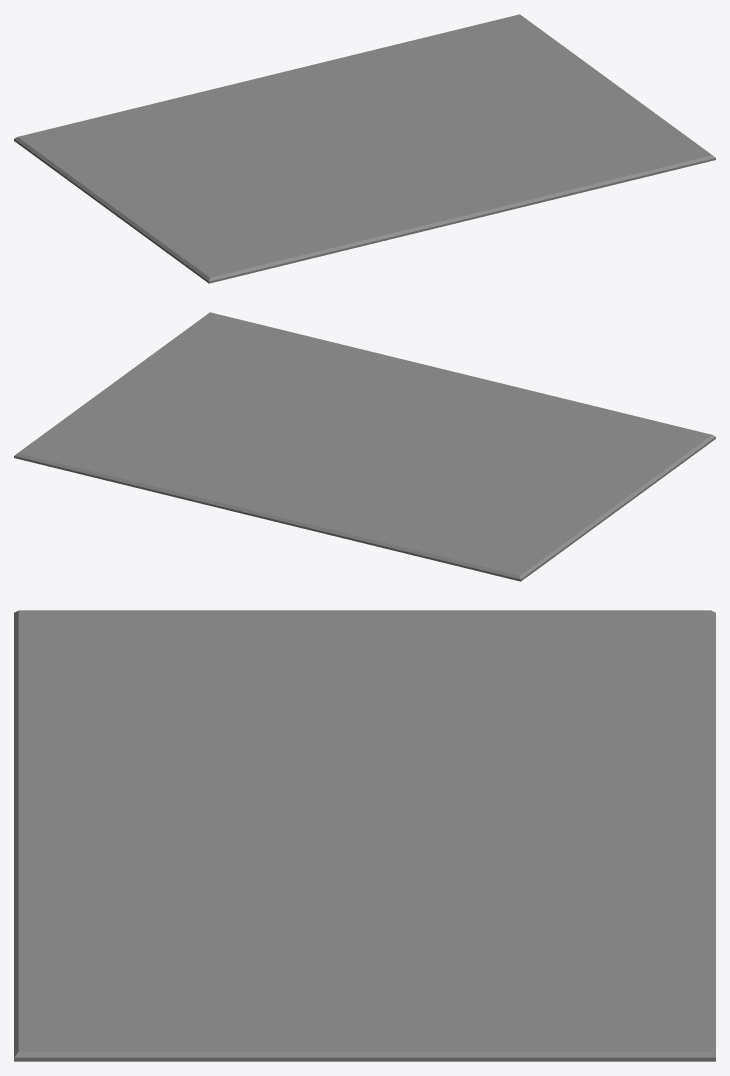
3 views of the same model, one above another, from view 1: azimuth 30°, elevation 25°; view 2: azimuth 150°, elevation 25°; view 3: azimuth 270°, elevation 25° (orthographic). The views are drawn at different scales.
Parts seen in each view (by area): view 1: marciapiede_svolta_DX.001, marciapiede_svolta_DX.002, marciapiede_svolta_dura_SX.001, marciapiede_svolta_dura_DX.001, marciapiede_svolta_dura_DX.002, marciapiede_svolta_dura_SX.002; view 2: marciapiede_svolta_DX.002, marciapiede_svolta_DX.001, marciapiede_svolta_dura_DX.001, marciapiede_svolta_dura_SX.001, marciapiede_svolta_dura_SX.002, marciapiede_svolta_dura_DX.002; view 3: marciapiede_svolta_DX.001, marciapiede_svolta_DX.002, marciapiede_svolta_dura_DX.002, marciapiede_svolta_dura_SX.002, marciapiede_svolta_dura_DX.001, marciapiede_svolta_dura_SX.001.
Part boxes in pixels (bbox=[...]): marciapiede_svolta_DX.001: bbox=[196, 105, 631, 262]; marciapiede_svolta_DX.002: bbox=[100, 34, 533, 186]; marciapiede_svolta_dura_SX.001: bbox=[111, 187, 293, 283]; marciapiede_svolta_dura_DX.001: bbox=[14, 117, 195, 211]; marciapiede_svolta_dura_DX.002: bbox=[534, 85, 715, 180]; marciapiede_svolta_dura_SX.002: bbox=[438, 14, 615, 104]; marciapiede_svolta_DX.002: bbox=[98, 403, 533, 560]; marciapiede_svolta_DX.001: bbox=[196, 332, 629, 484]; marciapiede_svolta_dura_DX.001: bbox=[436, 485, 618, 581]; marciapiede_svolta_dura_SX.001: bbox=[534, 415, 715, 509]; marciapiede_svolta_dura_SX.002: bbox=[14, 383, 195, 478]; marciapiede_svolta_dura_DX.002: bbox=[114, 312, 291, 402]; marciapiede_svolta_DX.001: bbox=[14, 682, 364, 982]; marciapiede_svolta_DX.002: bbox=[365, 682, 715, 982]; marciapiede_svolta_dura_DX.002: bbox=[14, 979, 364, 1061]; marciapiede_svolta_dura_SX.002: bbox=[365, 979, 715, 1061]; marciapiede_svolta_dura_DX.001: bbox=[365, 610, 715, 686]; marciapiede_svolta_dura_SX.001: bbox=[14, 610, 364, 686].
Bounding box in the file's own units: 12 × 0.1 × 8.
1 material, 1 textured.
